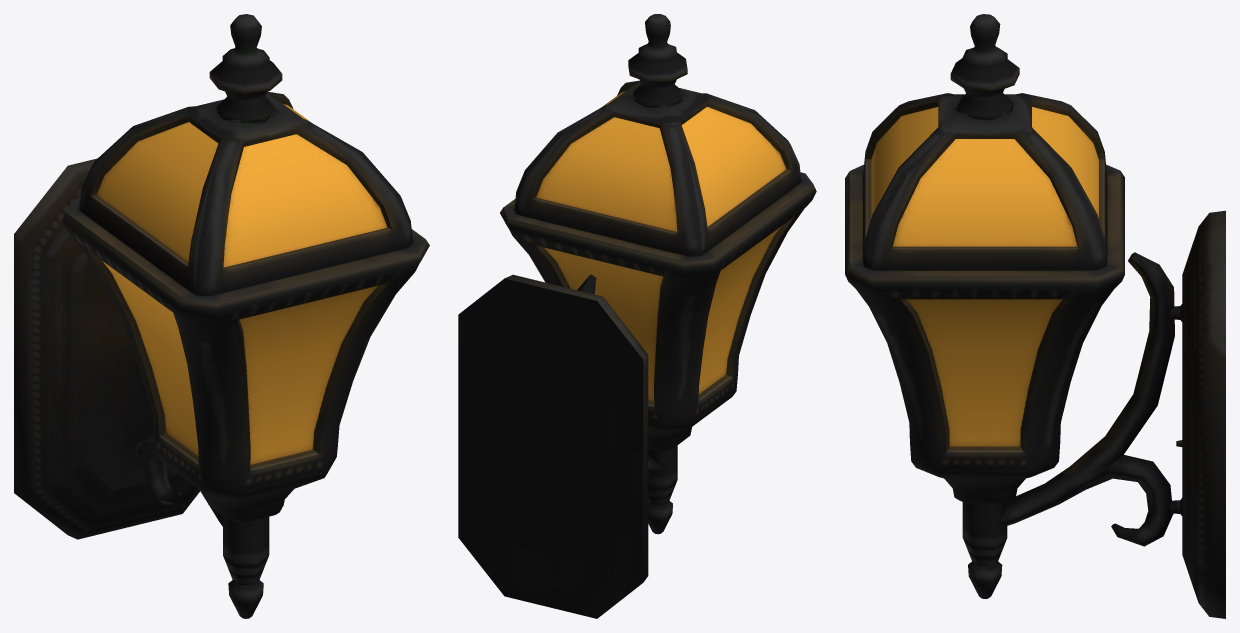
File: WallSconce.dae
The picture shows the model from 3 angles, left to right: view 1: azimuth 30°, elevation 25°; view 2: azimuth 150°, elevation 25°; view 3: azimuth 270°, elevation 25°; orthographic projection. The views are drawn at different scales.
Visible parts, largest first — view 1: polySurface58; view 2: polySurface58; view 3: polySurface58.
Boxes of the visible parts, x1,y1,x2,y2 form: polySurface58: (14, 14, 429, 618); polySurface58: (458, 14, 816, 618); polySurface58: (845, 14, 1225, 618).
Bounding box in the file's own units: 0.0671 × 0.1543 × 0.0913.
1 material, 1 textured.
